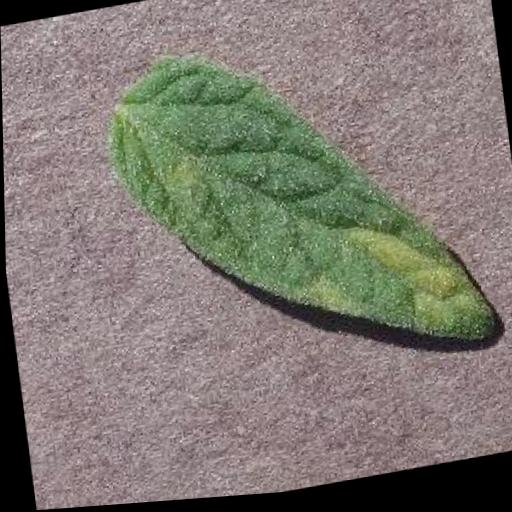Leaf Mold: (105, 7, 504, 407)
